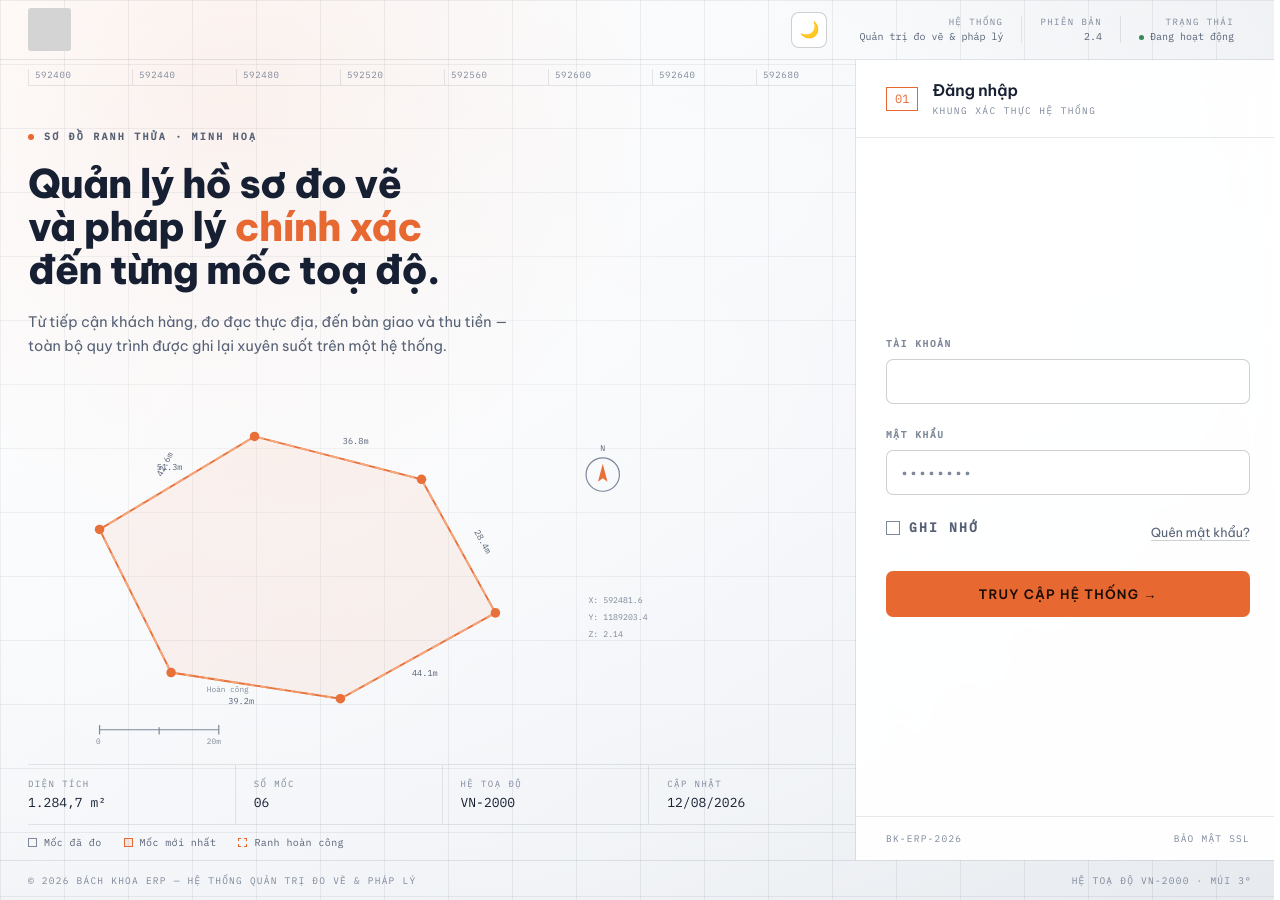
Login Forgot Password Flow › sends OTP request and transitions to OTP verification step
This screenshot has width=1280, height=900.
Click the button "Quên mật khẩu?" at (1200, 532), box [1151,524,1250,541]
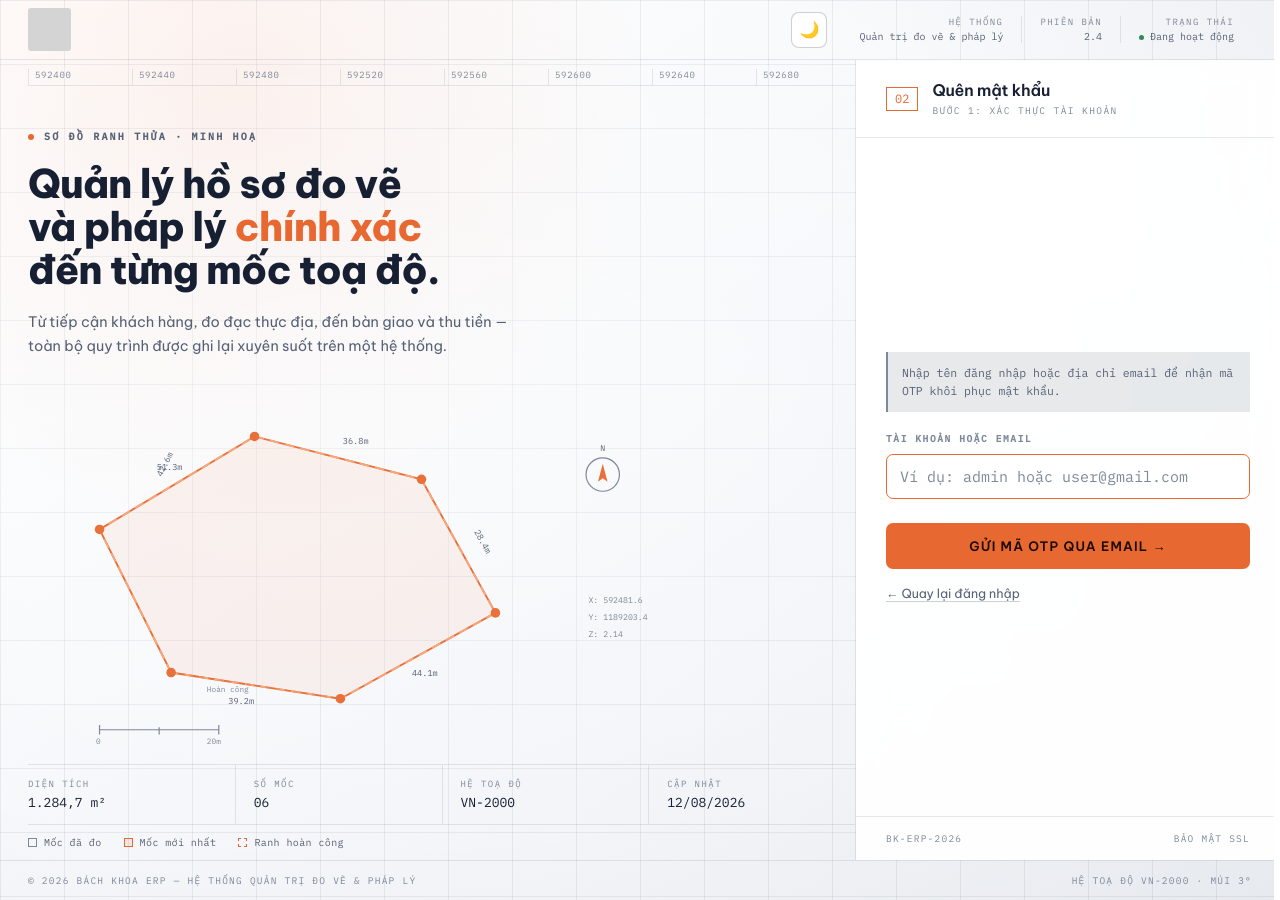
Type "testuser" into the field with placeholder "Ví dụ: admin hoặc user@gmail.com" at (1068, 476), box [886,454,1250,499]
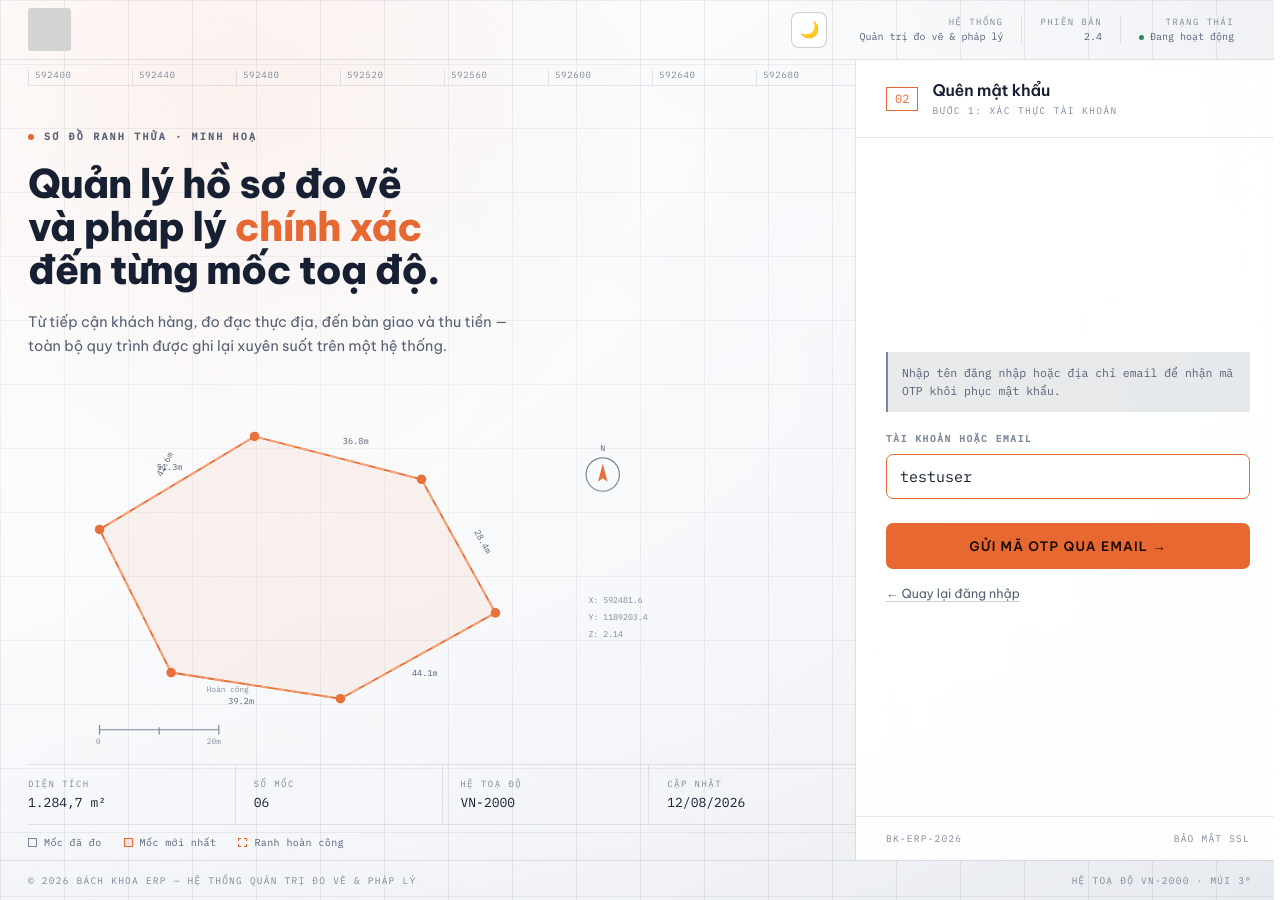
Click the button "Gửi mã OTP qua Email →" at (1068, 546), box [886,523,1250,569]
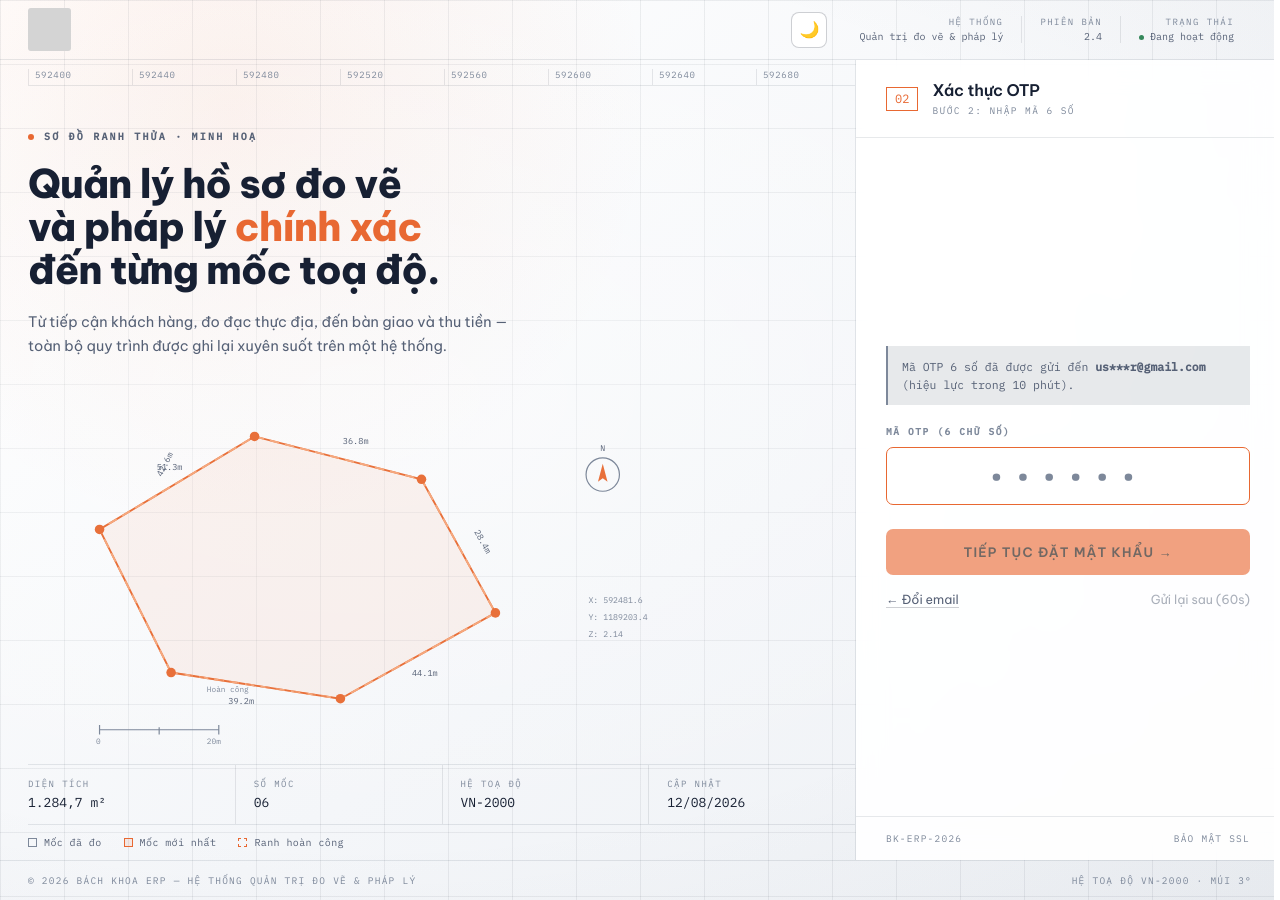
Expected: the heading "Xác thực OTP" is shown, [932,80,1040,100]
Expected: the field with placeholder "••••••" is shown, [886,447,1250,505]
Expected: the button "Tiếp tục đặt mật khẩu →" is shown, [886,529,1250,575]
